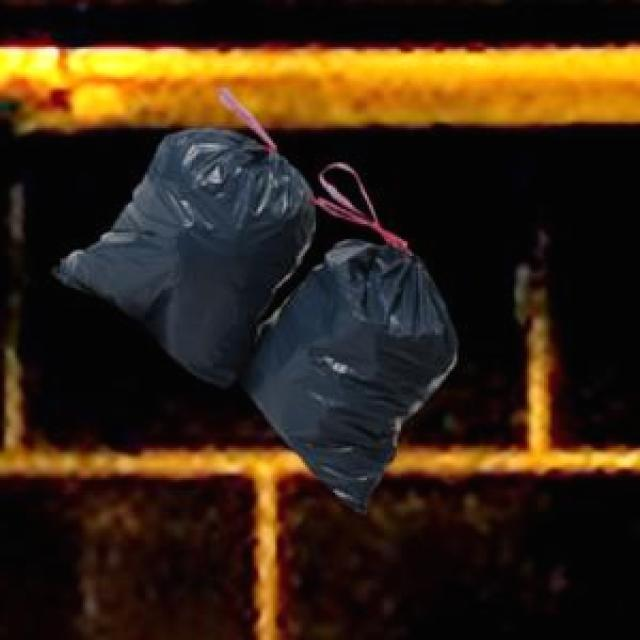Trashbag: (90, 134, 310, 364), (255, 250, 472, 483)
